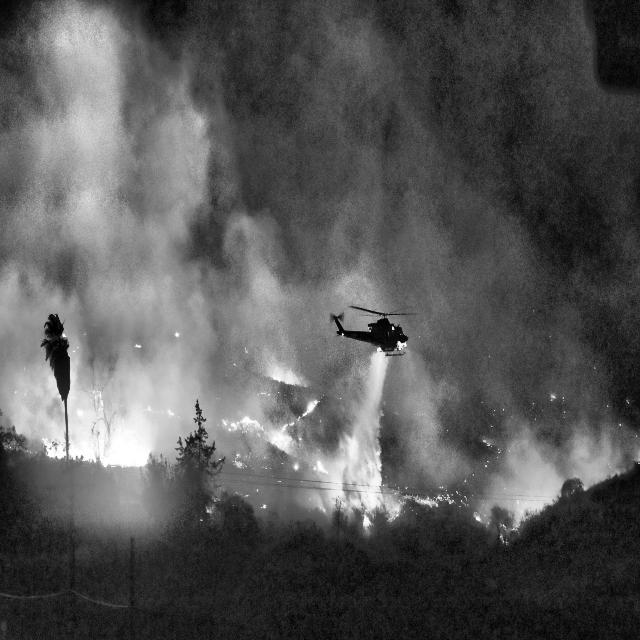fire: (8, 267, 603, 629)
